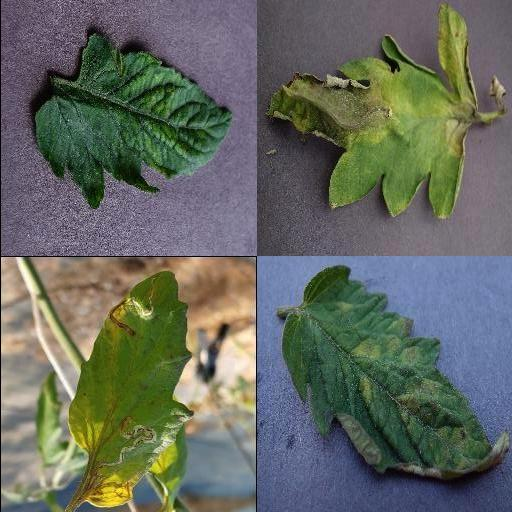Late Blight: (266, 2, 482, 220)
Leaf Miner: (63, 269, 195, 511)
Leaf Mold: (281, 267, 509, 483)
Mosaic Virus: (30, 31, 236, 213)
